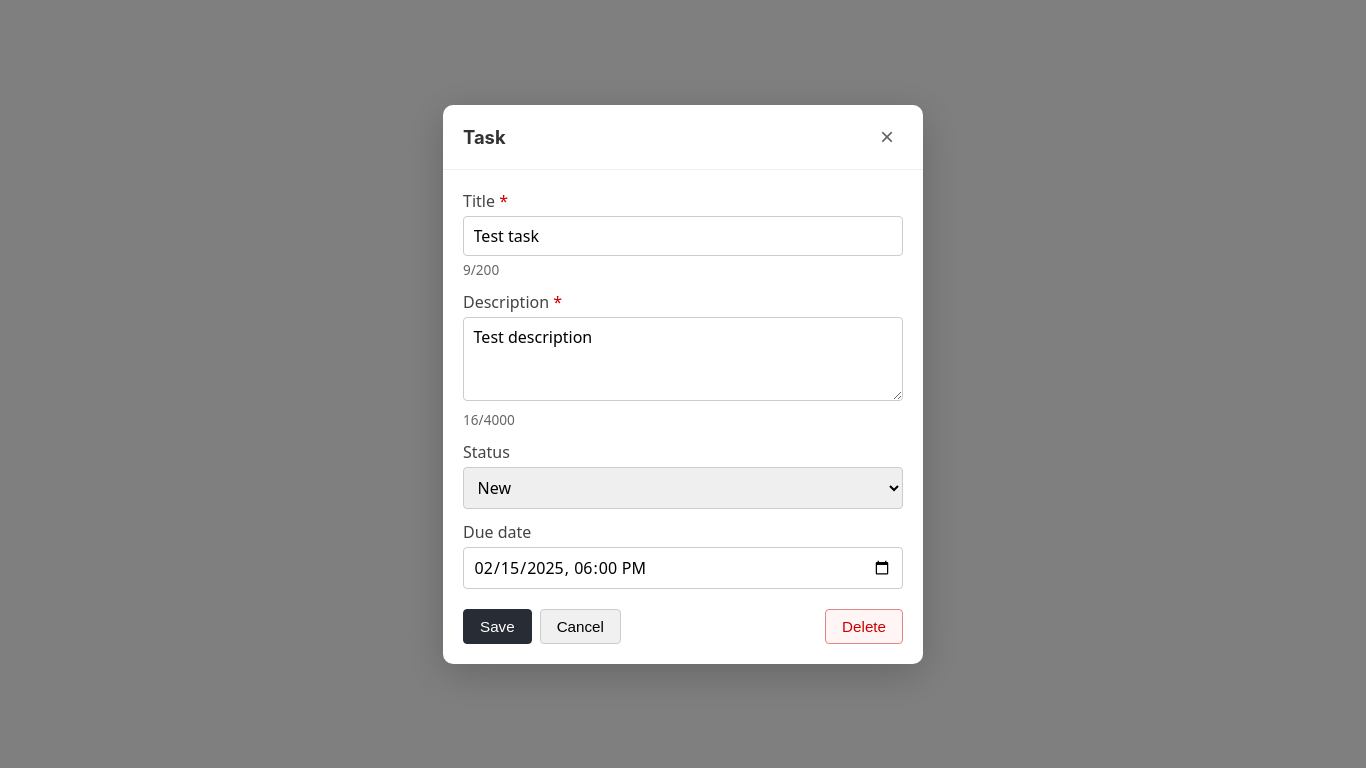
it: TaskDetailModal › shows discard confirm when form is dirty and Cancel is clicked
Step 1. Type " changed" into the field labelled "Title *" → [683, 236], box [463,216,903,256]
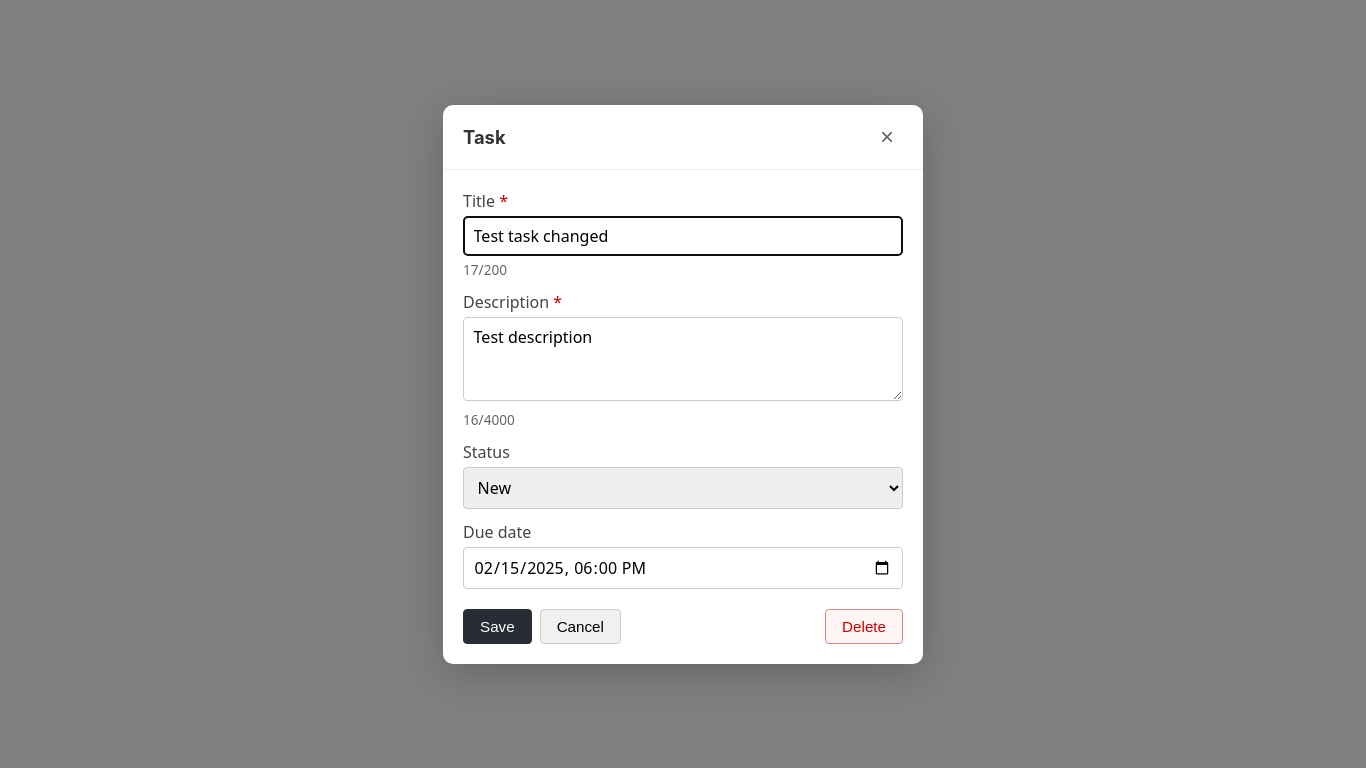
Step 2. Click the button "Cancel" → [580, 626], box [540,608,621,644]
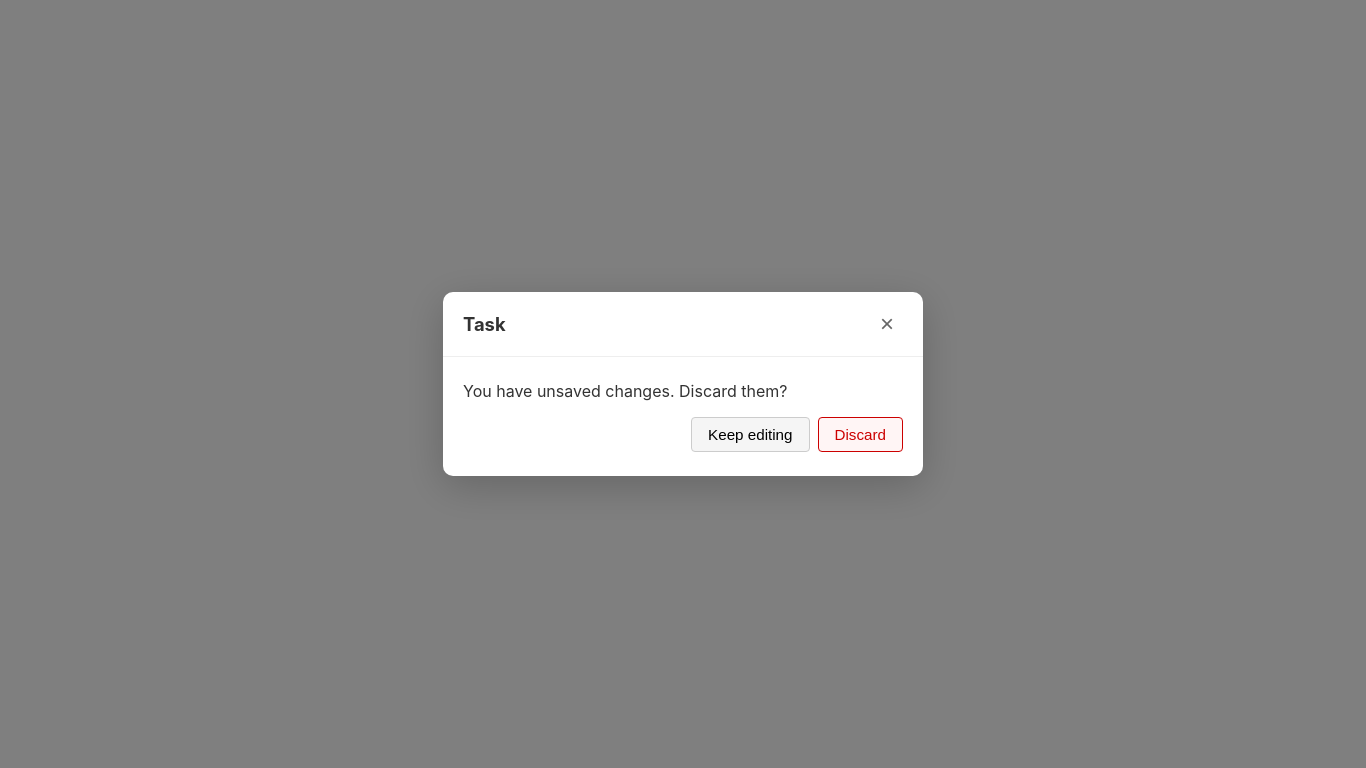
Now the text "You have unsaved changes. Discard them?" is shown, box [463,381,788,401]
